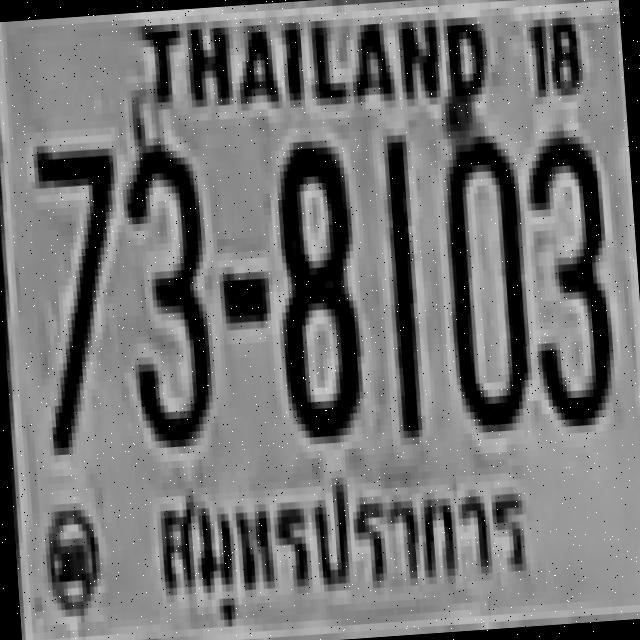0: (435, 127, 531, 427)
1: (377, 134, 424, 432)
3: (115, 136, 211, 442), (518, 121, 614, 421)
7: (28, 134, 128, 448)
8: (266, 132, 362, 432)
SamutPrakan: (140, 453, 544, 613)
